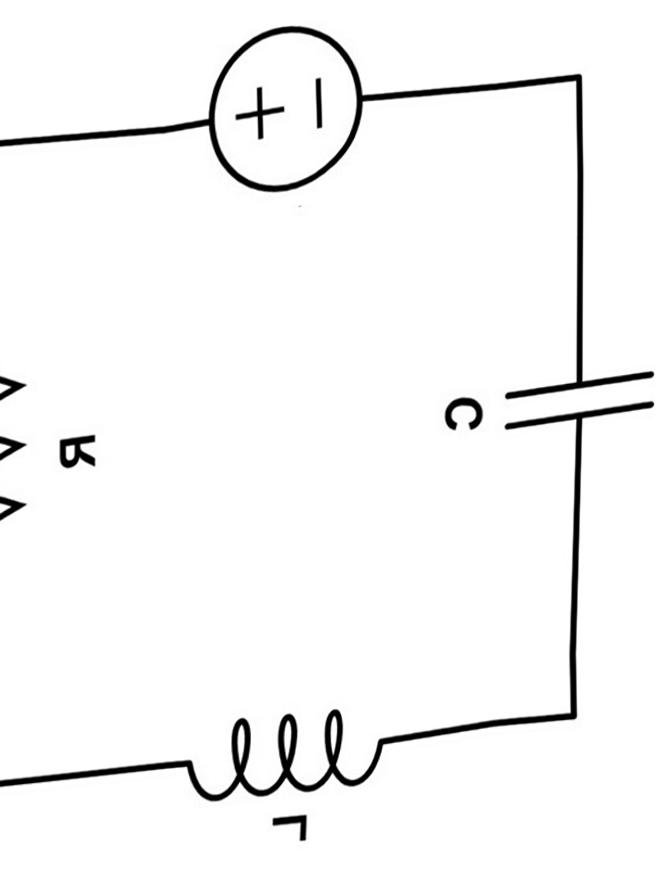Battery: (130, 12, 434, 189)
